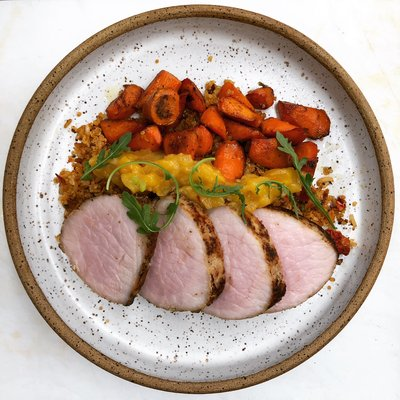sushi: (16, 3, 398, 385)
